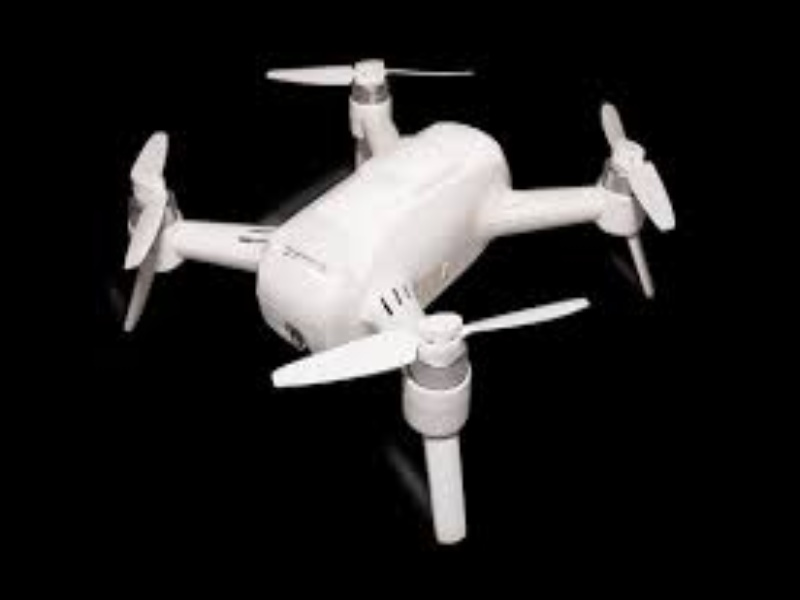drone: (124, 58, 686, 545)
